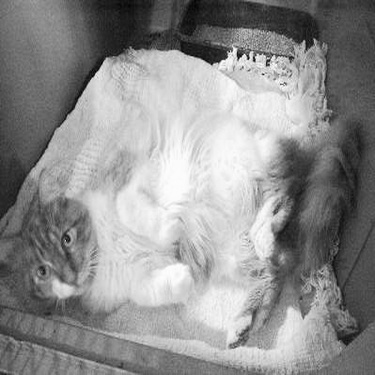cat: (1, 60, 356, 335)
